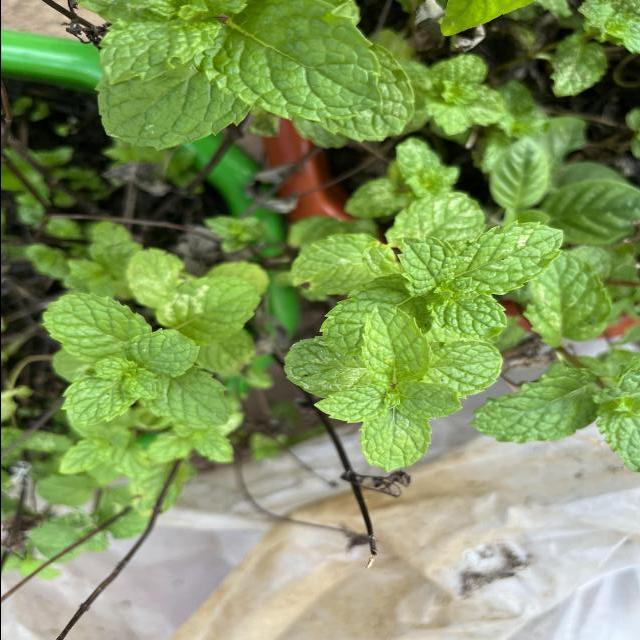Mentha spicata: (200, 0, 382, 124), (465, 366, 600, 446), (39, 292, 152, 366), (458, 219, 564, 297), (59, 359, 157, 427), (356, 304, 431, 384), (120, 326, 200, 378), (310, 385, 394, 425), (393, 382, 463, 420)
